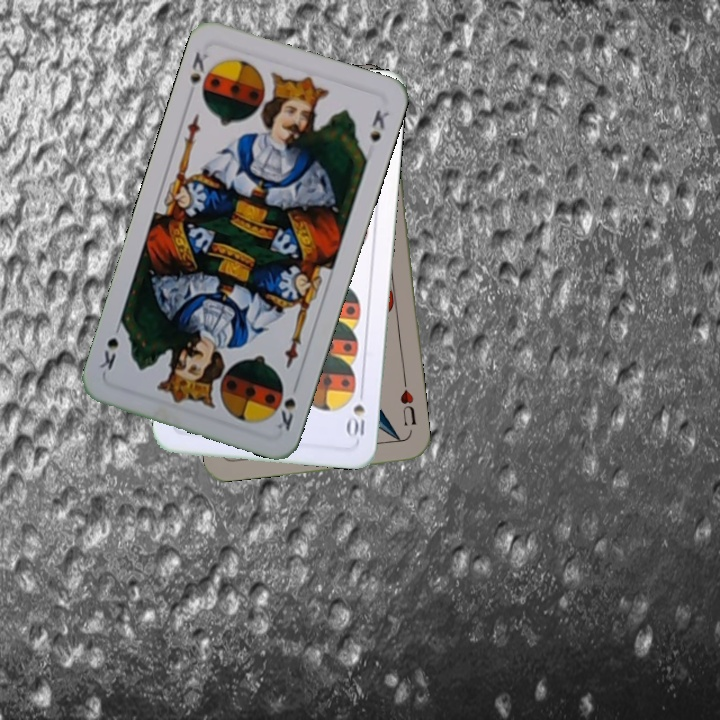HU: (396, 377, 419, 429)
S10: (345, 384, 367, 440)
SK: (185, 47, 217, 104), (273, 377, 302, 434)
